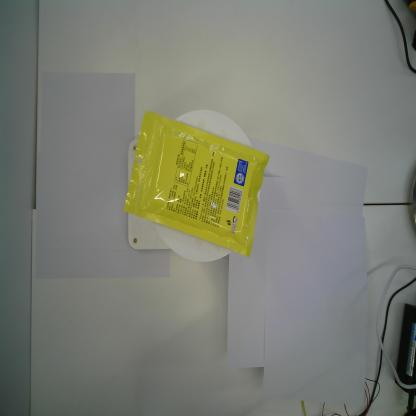Dried Fruit: (122, 111, 270, 257)
